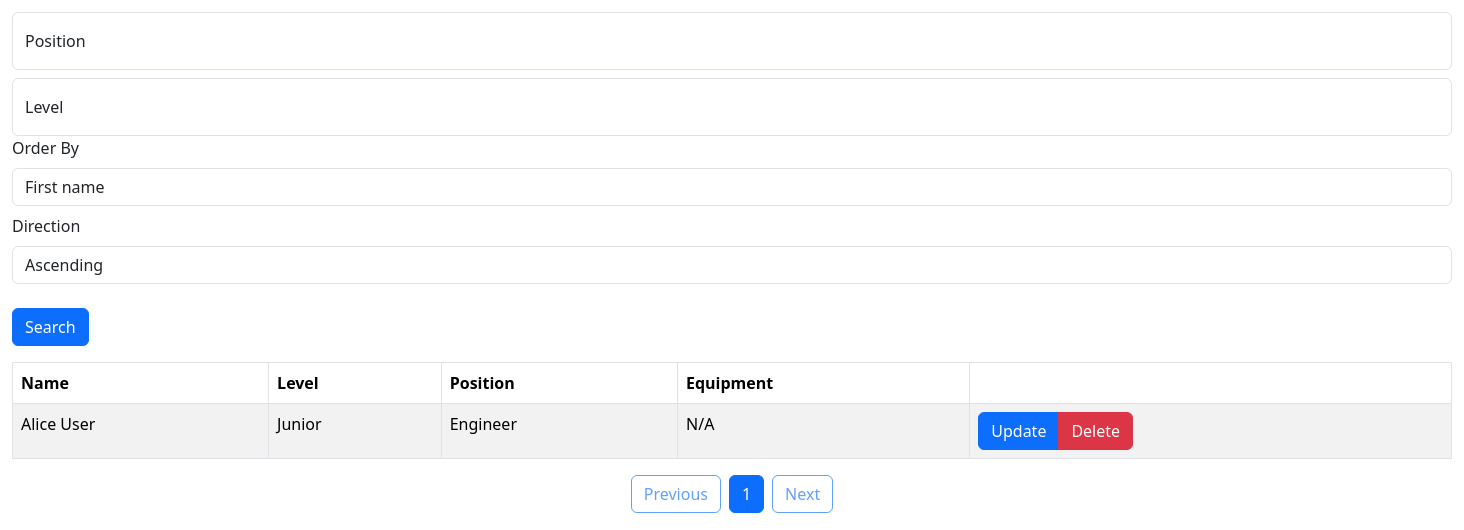
Test: employee list › shows a styled empty state and no pagination when a filter finds nothing
The width and height of the screenshot is (1464, 530).
Expected: the table is shown, [12,362,1452,459]
Type "Astronaut" into the field labelled "Position" at (732, 41), box [12,12,1452,70]
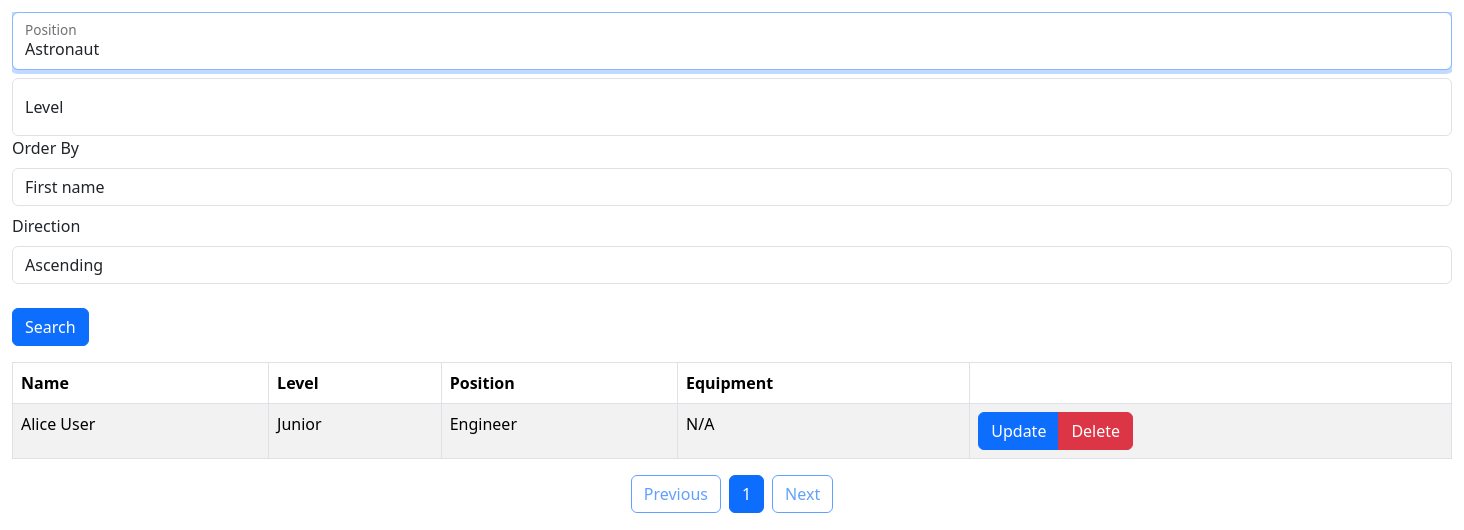
Click the button "Search" at (50, 327), box [12,308,89,346]
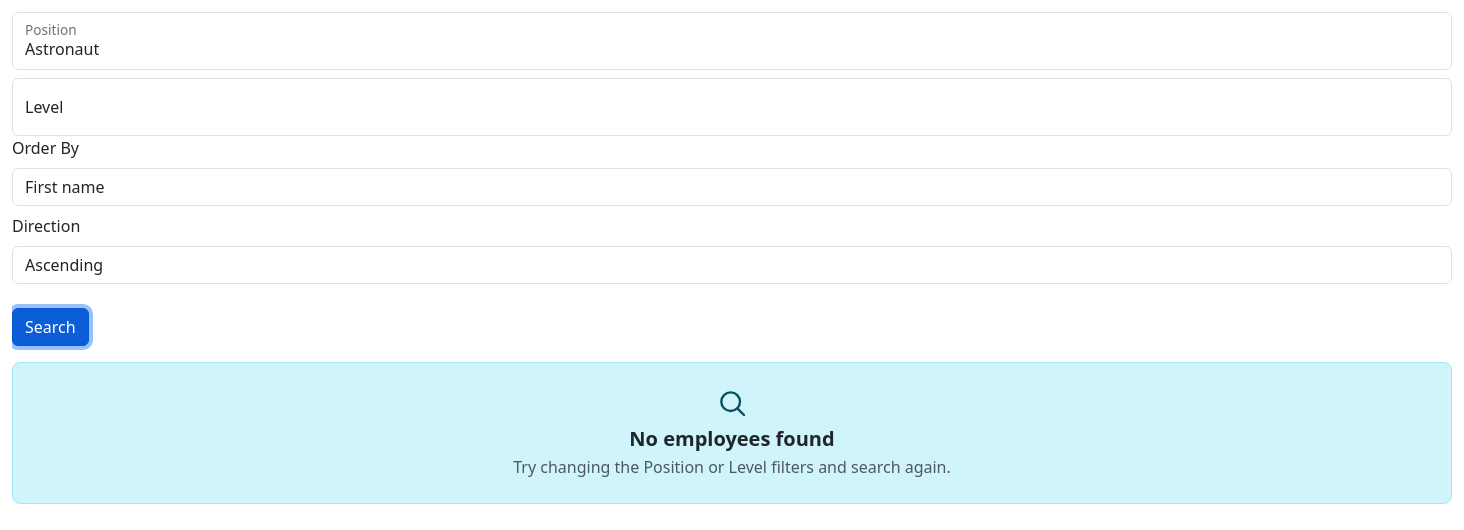
Result: the heading "No employees found" is shown at [629,425,835,452]
Result: the table is gone
Result: the button "Next" is gone
